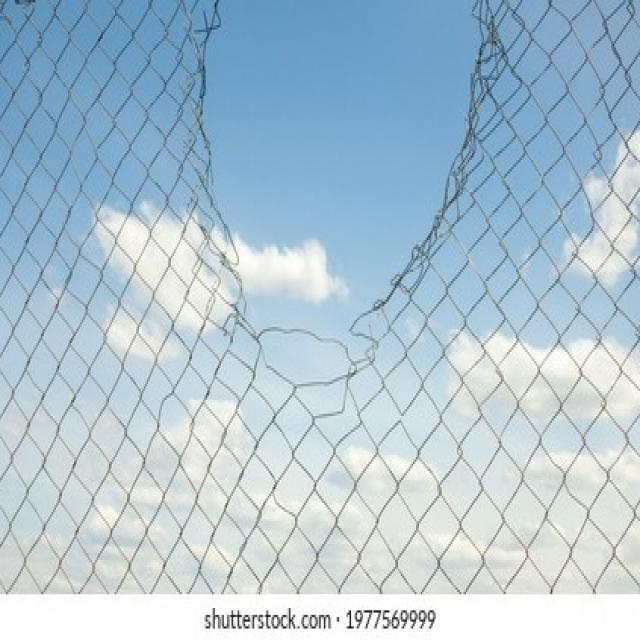fence line: (199, 5, 485, 401)
